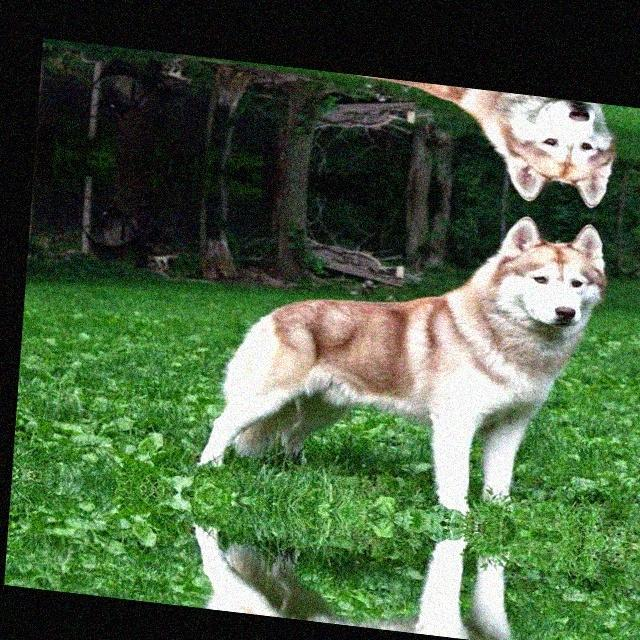dog: (176, 177, 614, 516), (198, 57, 624, 210), (167, 515, 591, 640)
